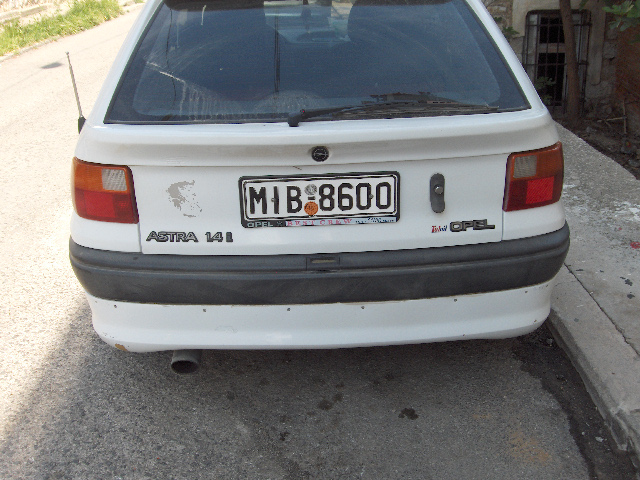licenseplate: (238, 170, 398, 219)
